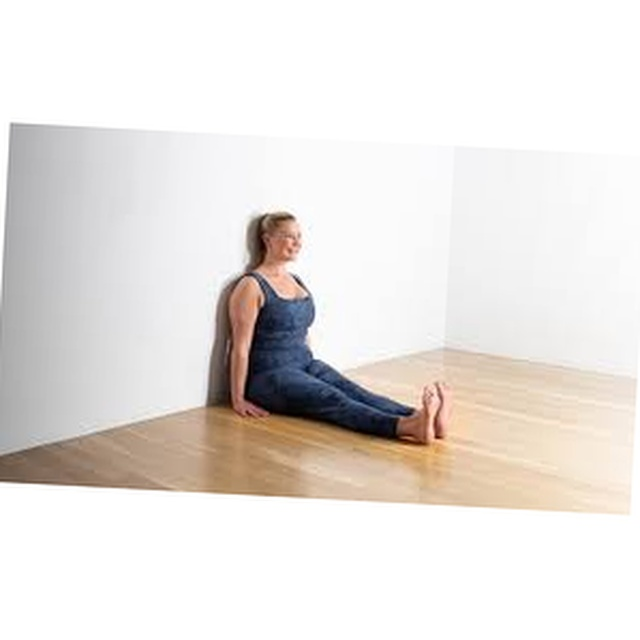Staff_Pose: (224, 208, 448, 446)
